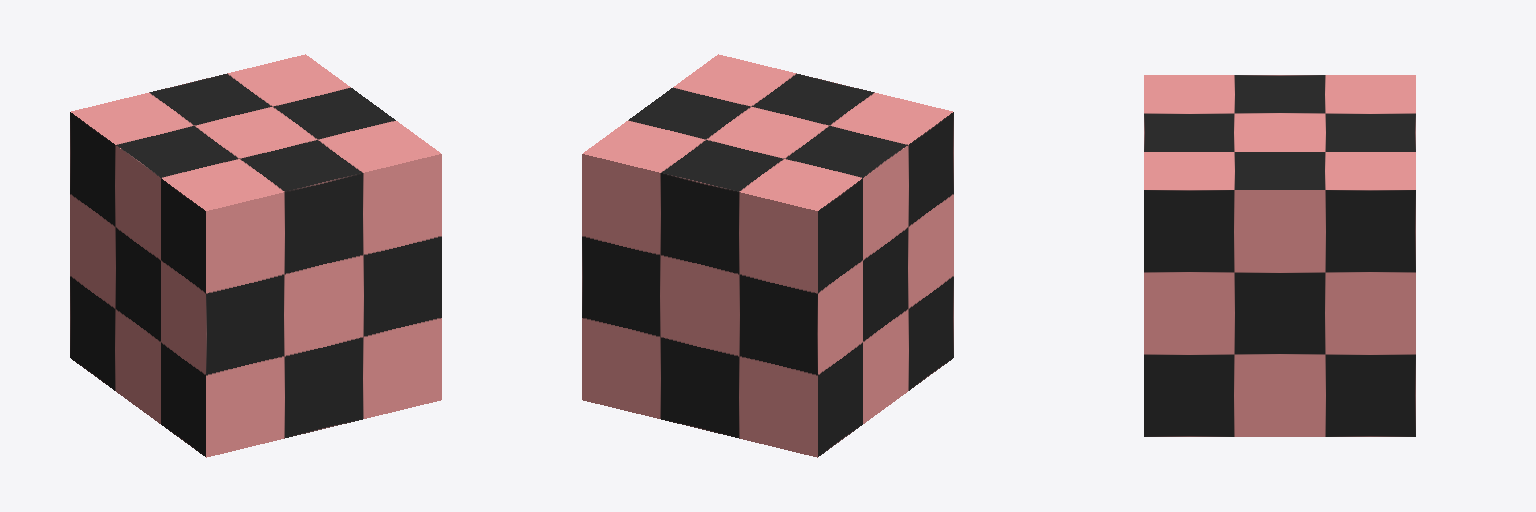
The picture shows the model from 3 angles: view 1: azimuth 30°, elevation 25°; view 2: azimuth 150°, elevation 25°; view 3: azimuth 270°, elevation 25°; orthographic projection.
Parts seen in each view (by area): view 1: Cube; view 2: Cube; view 3: Cube.
Boxes of the visible parts, x1,y1,x2,y2 form: Cube: [70, 54, 441, 457]; Cube: [582, 54, 953, 457]; Cube: [1144, 75, 1415, 436].
Size of the model in its own units: 2 by 2 by 2.
1 materials, 1 textured.